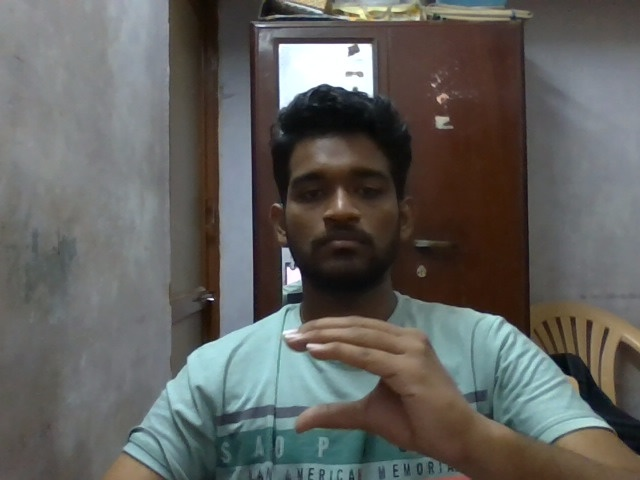C: (276, 312, 483, 465)
